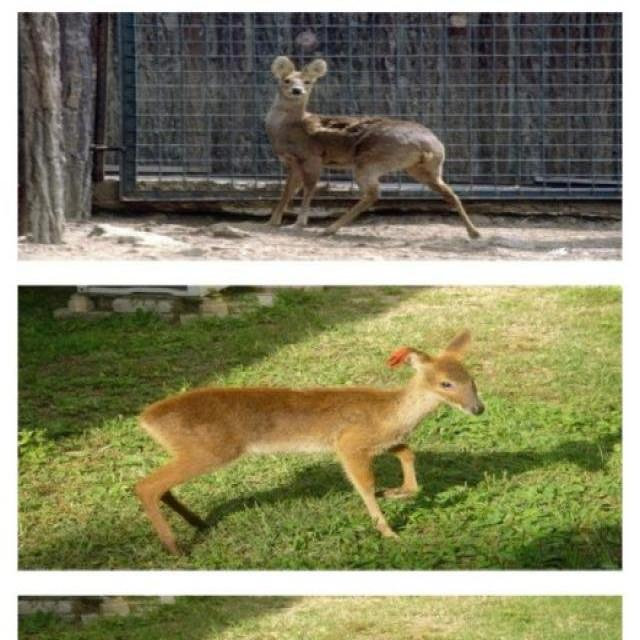deer: (140, 319, 522, 566), (197, 25, 562, 248)
